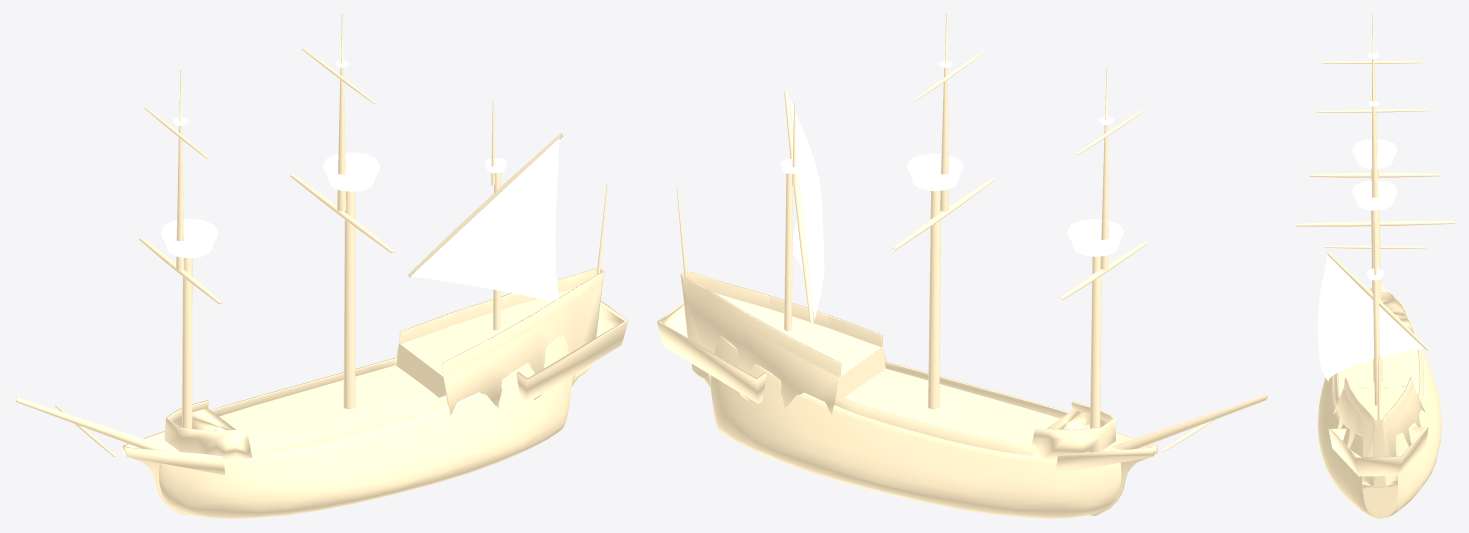
Rendered from susan_constant.glb.
3 renders of one model, left to right at view 1: azimuth 30°, elevation 25°; view 2: azimuth 150°, elevation 25°; view 3: azimuth 270°, elevation 25°, orthographic. The views are drawn at different scales.
Parts seen in each view (by area): view 1: Fake; view 2: Fake; view 3: Fake.
Boxes of the visible parts, x1,y1,x2,y2 form: Fake: [14, 14, 628, 518]; Fake: [657, 14, 1267, 518]; Fake: [1296, 14, 1454, 518].
Bounding box in the file's own units: 24.07 × 18.14 × 6.98.
